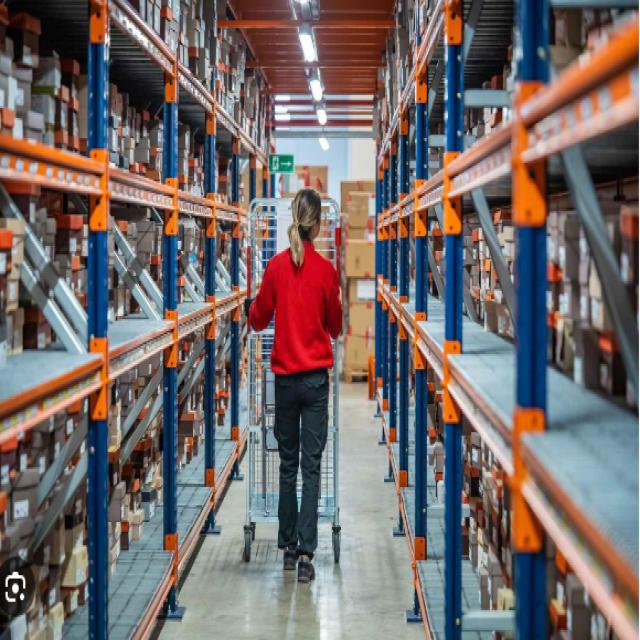shoes: (282, 541, 318, 587)
